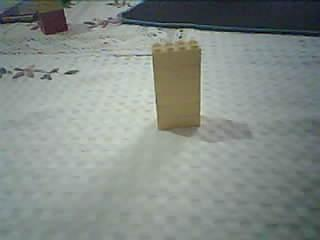lego: (150, 38, 201, 130), (34, 1, 67, 35)
